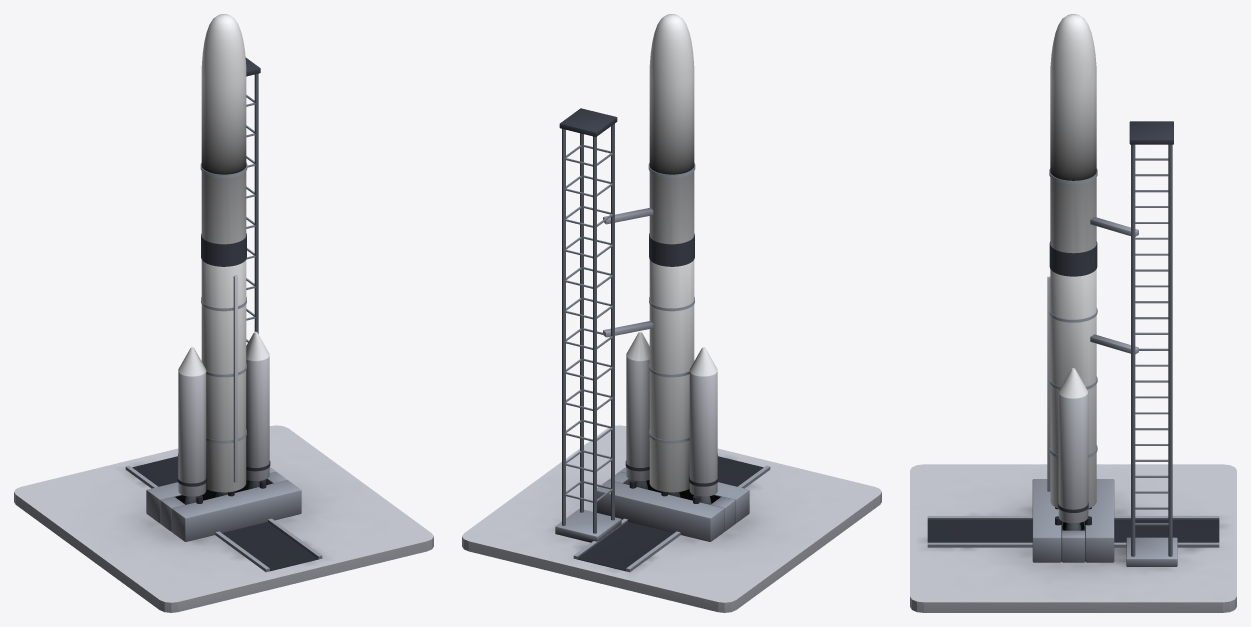
Rendered from launcher.envelope.glb.
3 renders of one model, left to right at view 1: azimuth 30°, elevation 25°; view 2: azimuth 150°, elevation 25°; view 3: azimuth 270°, elevation 25°, orthographic. The views are drawn at different scales.
Parts seen in each view (by area): view 1: launcher.light, launcher.white, launcher.mid, launcher.graphite, launcher.metal; view 2: launcher.light, launcher.white, launcher.mid, launcher.metal, launcher.graphite; view 3: launcher.light, launcher.white, launcher.mid, launcher.graphite, launcher.metal.
Boxes of the visible parts, x1,y1,x2,y2 form: launcher.light: (14, 275, 433, 612); launcher.white: (178, 14, 269, 492); launcher.mid: (125, 163, 322, 572); launcher.graphite: (132, 57, 318, 571); launcher.metal: (184, 73, 259, 504); launcher.light: (462, 356, 881, 612); launcher.white: (626, 14, 717, 492); launcher.mid: (555, 163, 770, 572); launcher.metal: (562, 123, 711, 533); launcher.graphite: (559, 108, 763, 571); launcher.light: (910, 276, 1236, 612); launcher.white: (1050, 14, 1096, 508); launcher.mid: (927, 168, 1219, 566); launcher.graphite: (927, 121, 1219, 542); launcher.metal: (1062, 144, 1172, 556).
Size of the model in its own units: 2.8 by 4.99 by 2.8.
